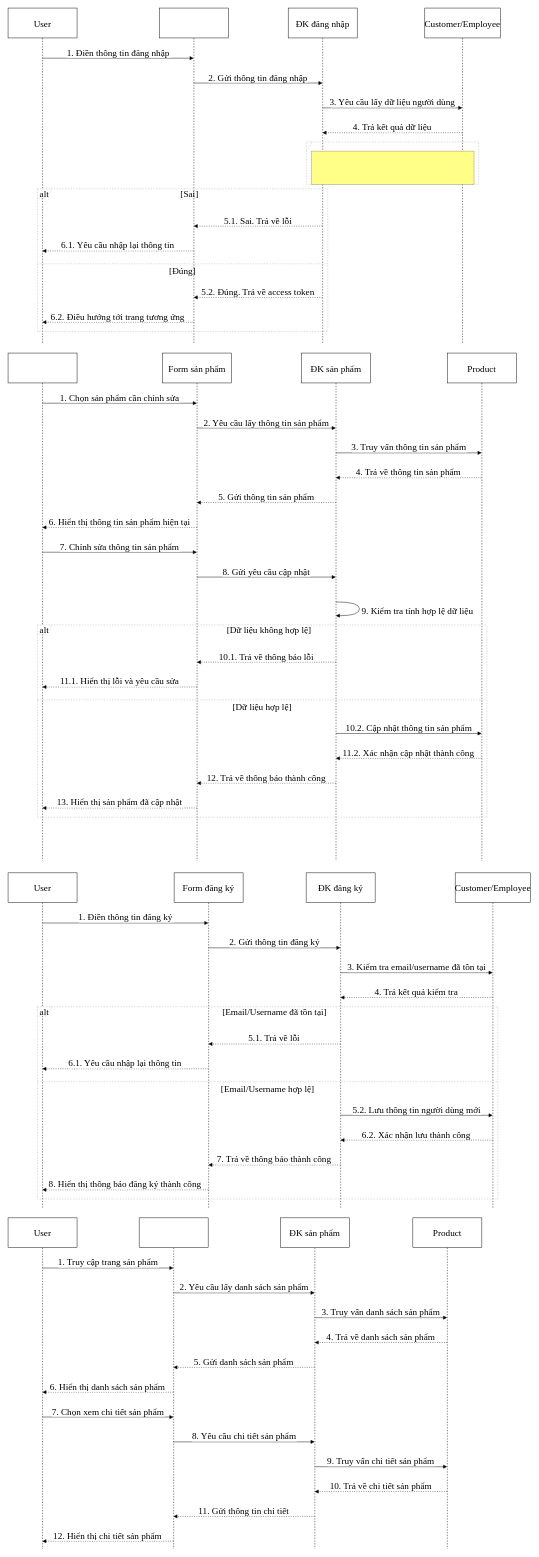
Some shapes in this 539 by 1557 pixel diagram are drawn without their labels. Each missing label, with the box of its shape:
5. Xác thực tài khoản và mật khẩu: (311, 151, 474, 184)
Admin: (8, 353, 77, 861)
Form đăng nhập: (159, 8, 228, 344)
Giao diện: (139, 1217, 208, 1549)
